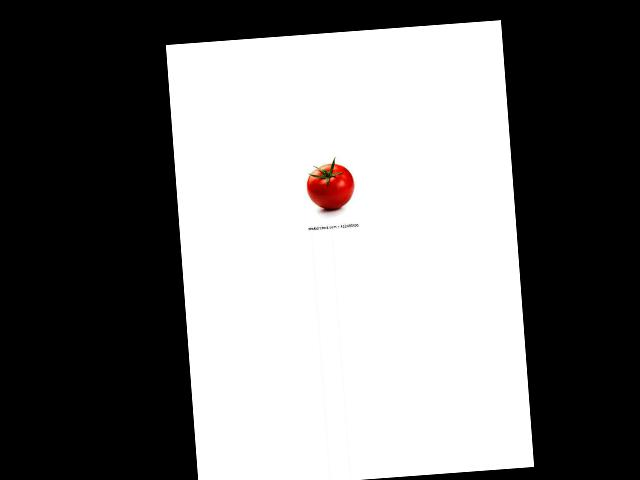tomato: (306, 162, 355, 211)
